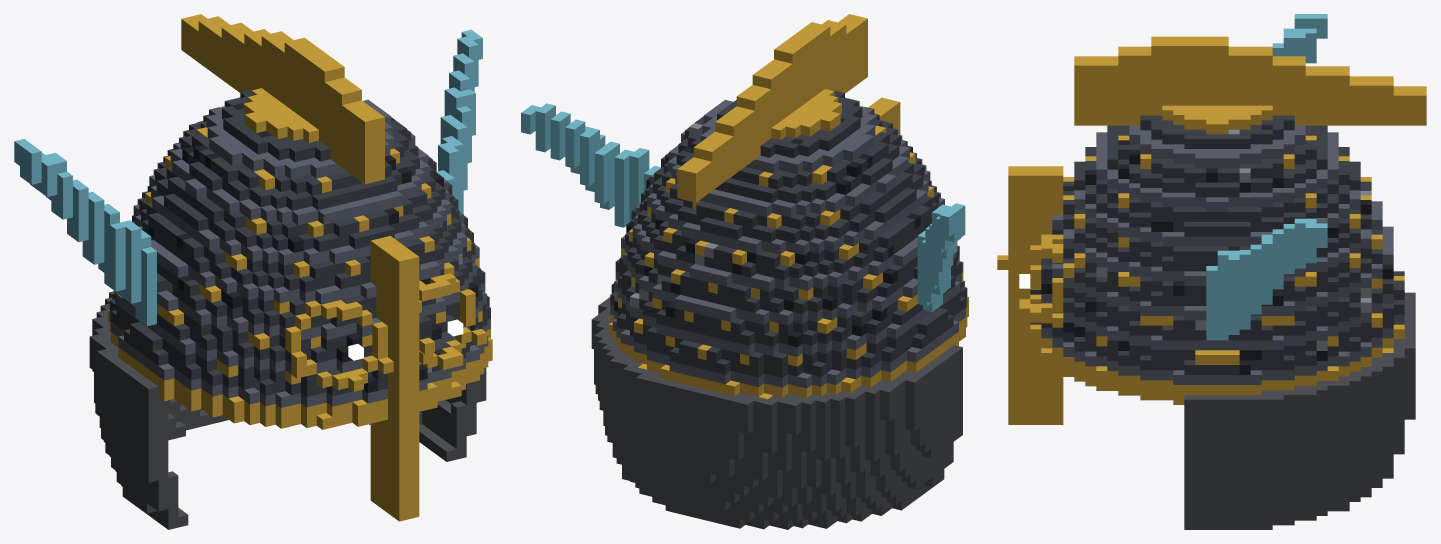
The model's file is scale_epic_helmet.glb.
The picture shows the model from 3 angles, left to right: view 1: azimuth 30°, elevation 25°; view 2: azimuth 150°, elevation 25°; view 3: azimuth 270°, elevation 25°; orthographic projection. The views are drawn at different scales.
Visible parts, largest first — view 1: scale_epic_helmet; view 2: scale_epic_helmet; view 3: scale_epic_helmet.
Part boxes in pixels (<box>): scale_epic_helmet: <box>14,14,492,529</box>; scale_epic_helmet: <box>521,14,968,529</box>; scale_epic_helmet: <box>997,14,1426,529</box>.
Size of the model in its own units: 0.552 by 0.504 by 0.468.
